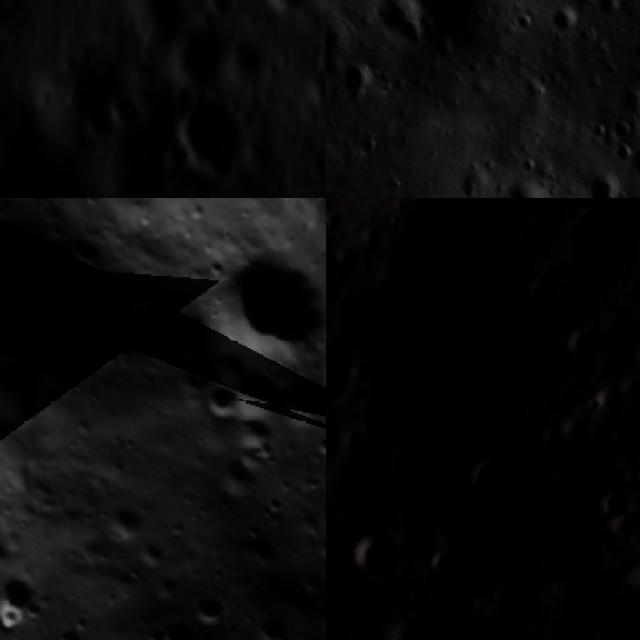crater: (0, 198, 160, 429), (171, 211, 326, 410), (362, 384, 506, 525), (421, 338, 533, 448), (332, 514, 427, 603), (455, 437, 535, 518), (261, 358, 326, 442), (326, 315, 381, 413), (178, 102, 244, 182), (410, 0, 507, 52), (188, 366, 258, 436), (219, 399, 288, 468), (0, 553, 58, 632), (549, 306, 610, 366), (546, 400, 606, 460), (181, 582, 241, 640), (136, 596, 215, 640), (369, 0, 428, 54), (518, 259, 573, 316), (469, 609, 563, 640), (340, 56, 380, 120), (302, 320, 326, 411), (247, 602, 294, 640), (326, 0, 345, 77), (575, 171, 626, 198), (545, 0, 581, 38), (109, 85, 142, 126), (82, 103, 109, 139), (615, 84, 640, 120), (593, 0, 622, 20), (304, 80, 326, 106), (631, 139, 640, 187), (315, 44, 326, 65)
